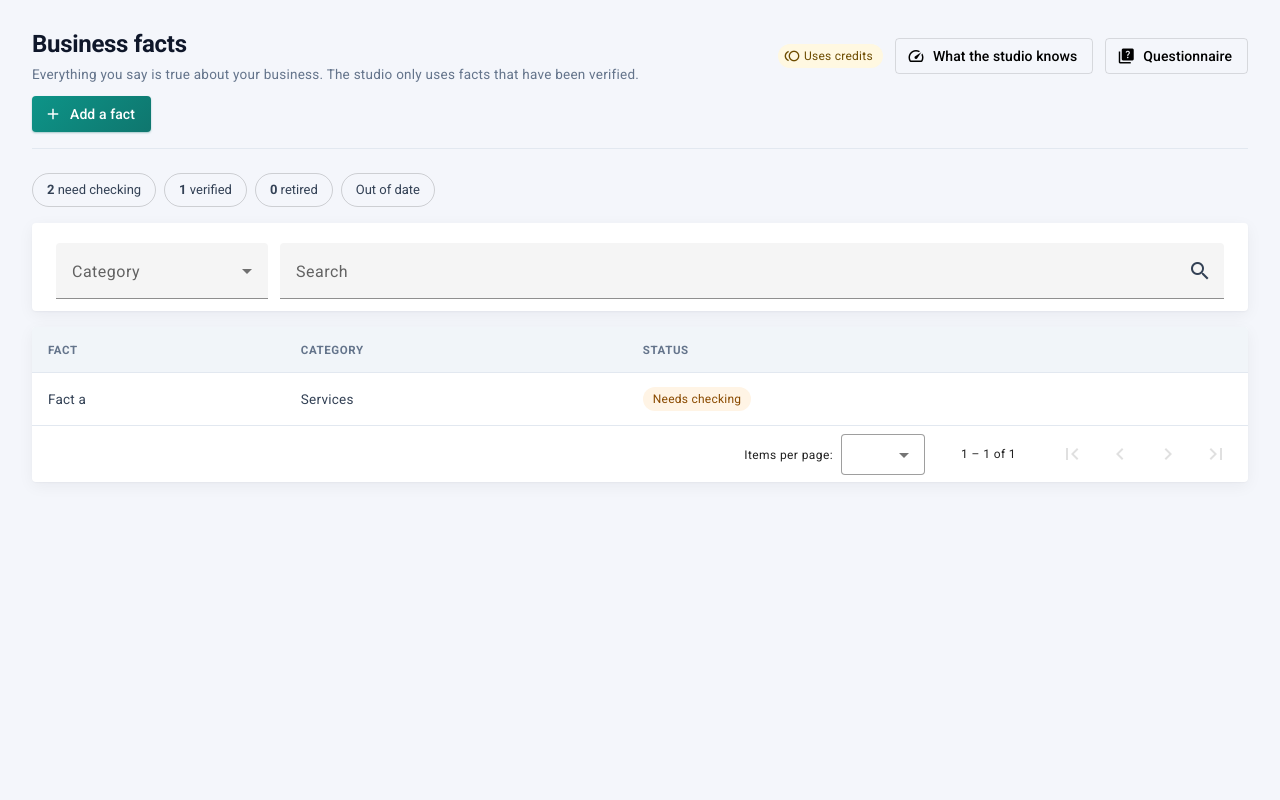
Scenario: StudioFactsComponent › gives a sales manager no way to verify, and says why
What coordinates should you click on to do the following:
click the row with class "fact-row"
I would click on:
 (640, 399)
Its box is x1=32 y1=373 x2=1248 y2=425.
(page scrolled)
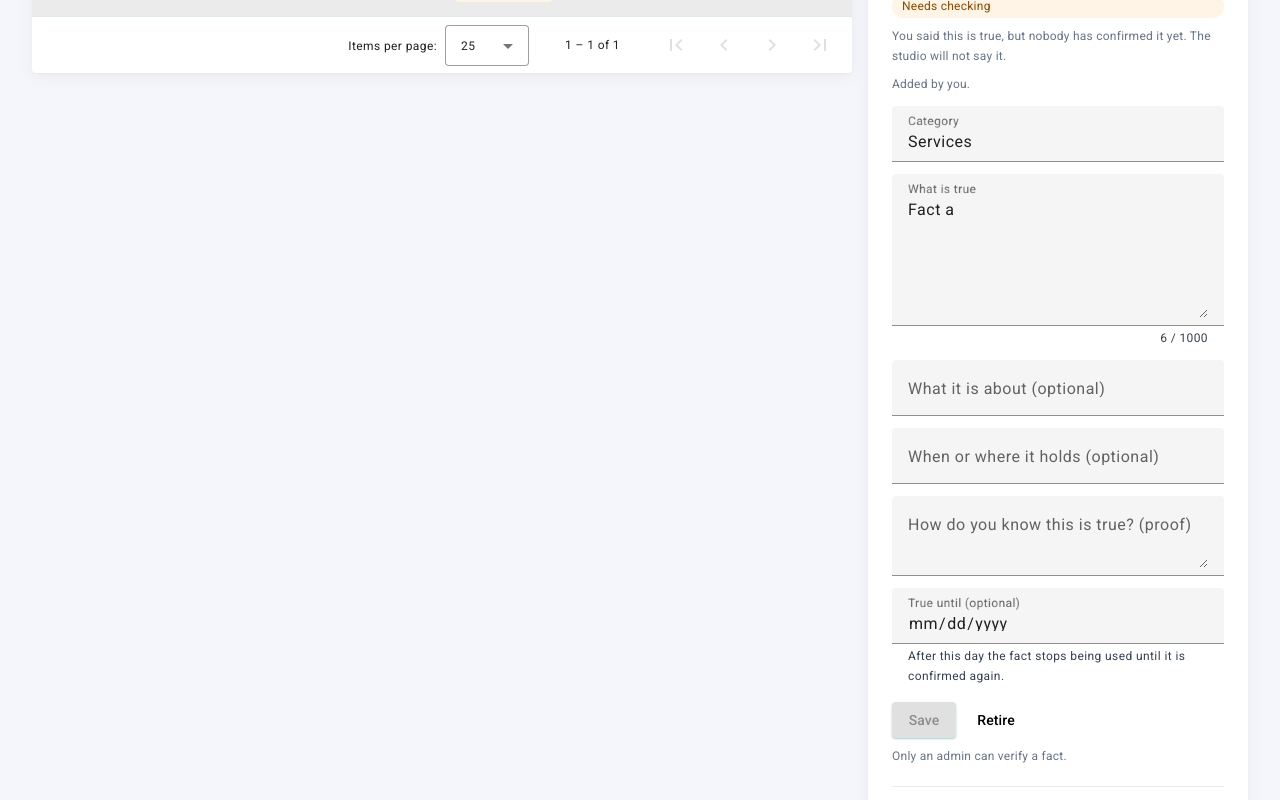
Check: the element with class "detail-card" shows "Only an admin can verify a fact", box x1=892 y1=749 x2=1067 y2=763
